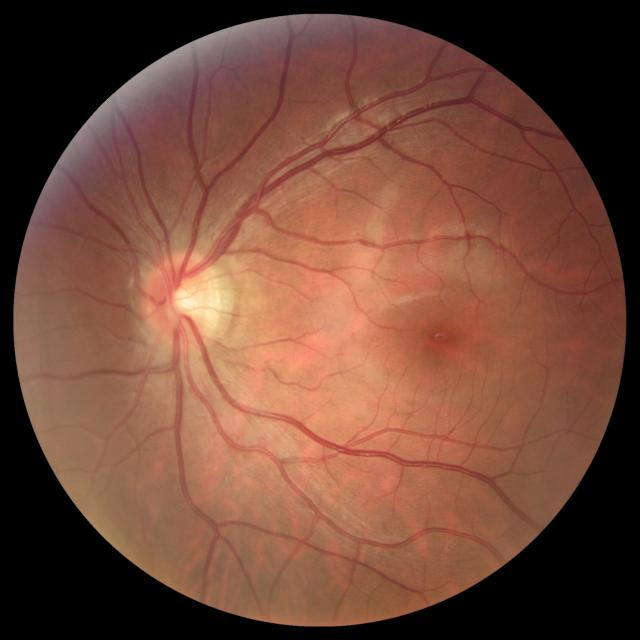OC: (165, 281, 201, 316)
OD: (141, 252, 224, 351)
